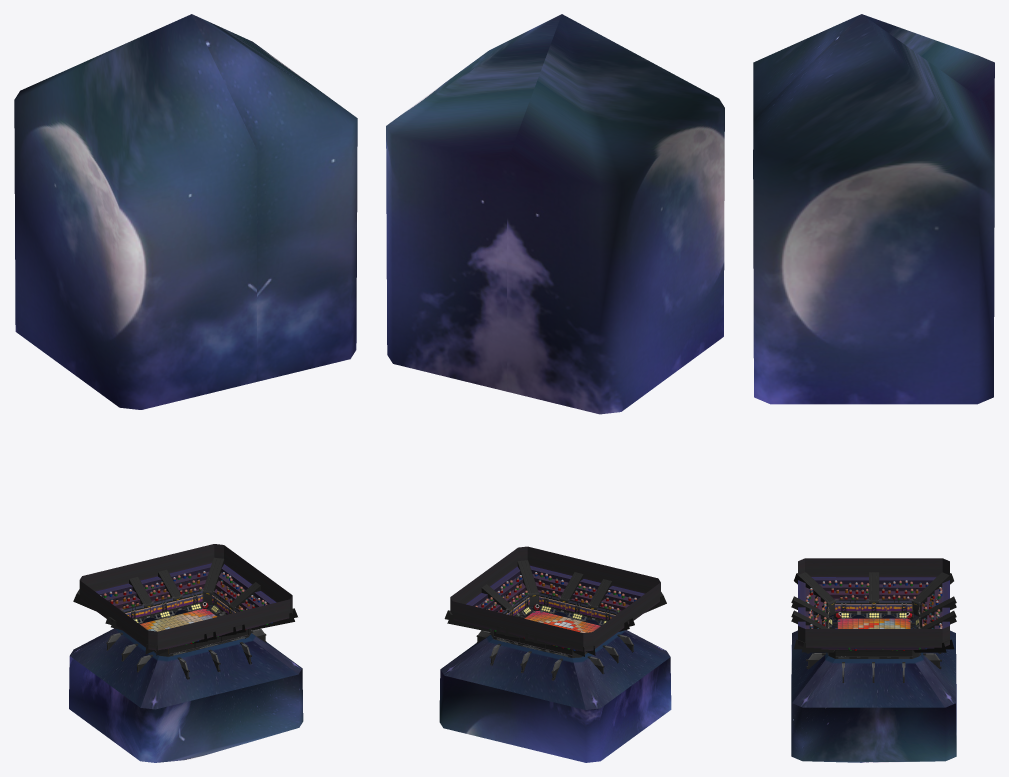
The model's file is enf_noLightnoSky.fbx.
The picture shows the model from 3 angles, left to right: view 1: azimuth 30°, elevation 25°; view 2: azimuth 150°, elevation 25°; view 3: azimuth 270°, elevation 25°; orthographic projection.
Visible parts, largest first — view 1: polySurface135, polySurface136, polySurface107, pCube1, polySurface63, polySurface108, pCylinder62; view 2: polySurface135, polySurface136, polySurface108, polySurface107, pCube1, pCylinder63; view 3: polySurface135, polySurface136, polySurface108, polySurface107, pCube1, pCylinder65, polySurface105, polySurface104.
Boxes of the visible parts, x1,y1,x2,y2 form: polySurface135: (14,14,357,409); polySurface136: (69,544,303,762); polySurface107: (73,557,260,611); pCube1: (140,608,217,631); polySurface63: (125,594,251,630); polySurface108: (105,608,297,655); pCylinder62: (100,571,205,608); polySurface135: (386,14,724,414); polySurface136: (439,546,671,762); polySurface108: (517,560,666,631); polySurface107: (444,584,595,656); pCube1: (515,610,600,654); pCylinder63: (534,572,636,611); polySurface135: (753,14,994,404); polySurface136: (791,558,956,762); polySurface108: (791,572,879,652); polySurface107: (869,572,956,652); pCube1: (837,618,910,628); pCylinder65: (822,580,928,599); polySurface105: (827,604,912,652); polySurface104: (841,603,909,618).
Size of the model in its own units: 589 by 1762 by 516.
